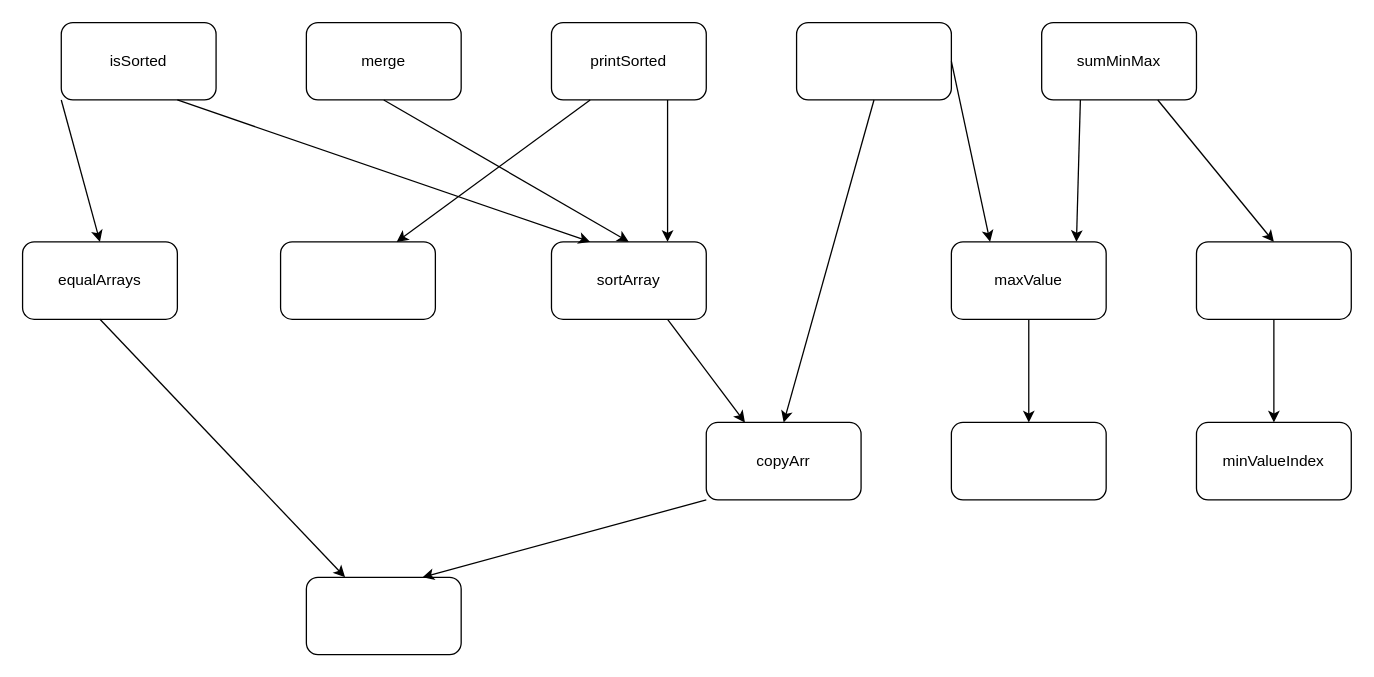
Image size: 1374x677. Some labels were removed from this diagram. The centre of each missing label's shape, as x and y in pixels:
maxValueIndex: point 1028,460
minValue: point 1273,280
printArr: point 357,280
size: point 383,615
swapMinMax: point 873,60
